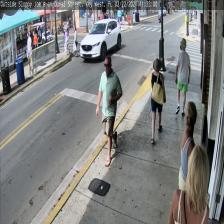person: (168, 144, 209, 224), (96, 56, 122, 166), (178, 100, 197, 224), (150, 58, 166, 143), (175, 37, 190, 115)
